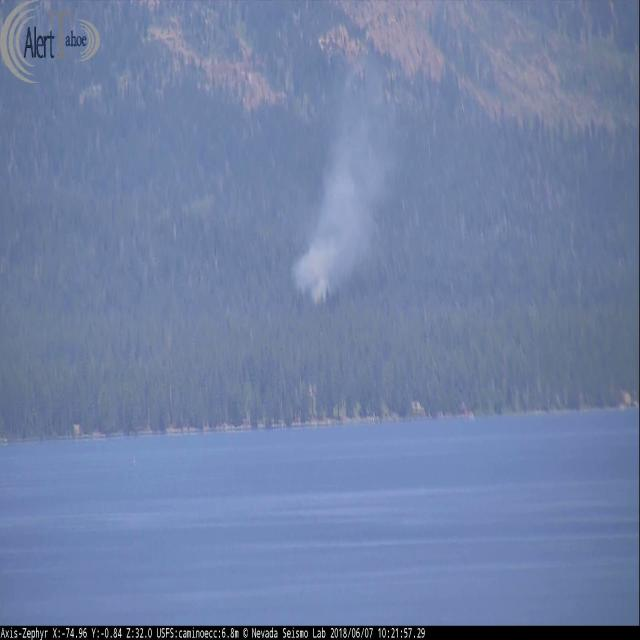smoke: (286, 54, 415, 316)
